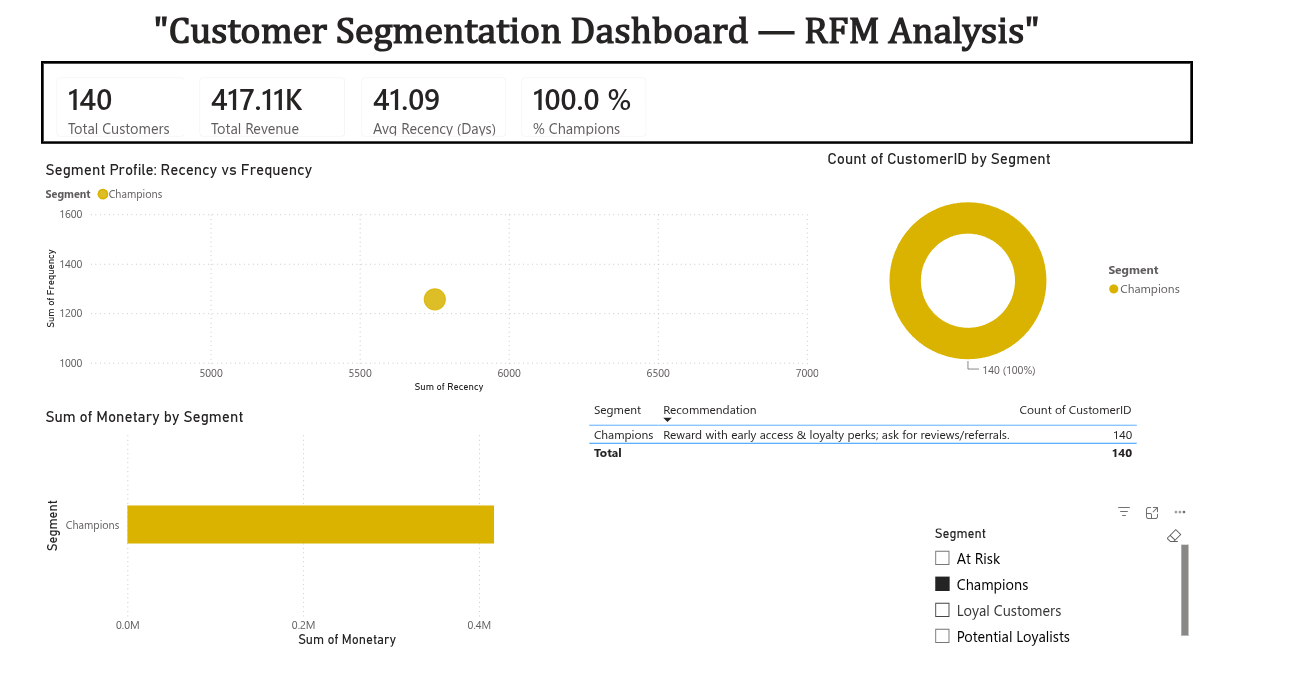

What the dashboard file says about the page in this screenshot:
{"tool":"powerbi","page":{"name":"Page 1","canvas":[1280,720],"ordinal":0},"visuals":[{"type":"cardVisual","fields":{"Data":["customer_segments_for_powerbi 1.Total Customers"]},"box":[0,65.6,177.8,100],"z":0},{"type":"cardVisual","fields":{"Data":["customer_segments_for_powerbi 1.Total Revenue"]},"box":[158.9,65.6,196.7,100],"z":1000},{"type":"cardVisual","fields":{"Data":["customer_segments_for_powerbi 1.Avg Recency (Days)"]},"box":[338.9,65.6,195.6,100],"z":2000},{"type":"cardVisual","fields":{"Data":["customer_segments_for_powerbi 1.% Champions"]},"box":[516.7,65.6,173.3,100],"z":3000},{"type":"donutChart","fields":{"Category":["customer_segments_for_powerbi 1.Segment"],"Y":["CountNonNull(customer_segments_for_powerbi 1.CustomerID)"]},"box":[868.9,165.6,411.1,271.1],"z":4000},{"type":"clusteredBarChart","fields":{"Category":["customer_segments_for_powerbi 1.Segment"],"Y":["Sum(customer_segments_for_powerbi 1.Monetary)"]},"box":[0,452.2,603.3,267.8],"z":5000},{"type":"scatterChart","title":"   Segment Profile: Recency vs Frequency","fields":{"Series":["customer_segments_for_powerbi 1.Segment"],"Size":["Sum(customer_segments_for_powerbi 1.Monetary)"],"X":["Sum(customer_segments_for_powerbi 1.Recency)"],"Y":["Sum(customer_segments_for_powerbi 1.Frequency)"]},"box":[0,177.8,868.9,258.9],"z":6000},{"type":"tableEx","fields":{"Values":["customer_segments_for_powerbi 1.Segment","customer_segments_for_powerbi 1.Recommendation","CountNonNull(customer_segments_for_powerbi 1.CustomerID)"]},"box":[603.3,436.7,668.9,142.2],"z":6001},{"type":"textbox","box":[120,3.3,1040,62.2],"z":6002},{"type":"shape","box":[0,27.8,1280,75.6],"z":6003},{"type":"shape","box":[0,64.4,1280,92.2],"z":6004},{"type":"slicer","fields":{"Values":["customer_segments_for_powerbi 1.Segment"]},"box":[980,578.9,300,141.1],"z":6005}]}

Visuals, with their boxes on the page's 1280x720 design canvas (x1, y1, x2, y2). These are canvas units, not pixel positions in the 1293x688 screenshot, which may show the page scaled, cropped or inside an application window:
cardVisual - customer_segments_for_powerbi 1.Total Customers: left=0, top=66, right=178, bottom=166
cardVisual - customer_segments_for_powerbi 1.Total Revenue: left=159, top=66, right=356, bottom=166
cardVisual - customer_segments_for_powerbi 1.Avg Recency (Days): left=339, top=66, right=534, bottom=166
cardVisual - customer_segments_for_powerbi 1.% Champions: left=517, top=66, right=690, bottom=166
donutChart - customer_segments_for_powerbi 1.Segment x CountNonNull(customer_segments_for_powerbi 1.CustomerID): left=869, top=166, right=1280, bottom=437
clusteredBarChart - customer_segments_for_powerbi 1.Segment x Sum(customer_segments_for_powerbi 1.Monetary): left=0, top=452, right=603, bottom=720
"   Segment Profile: Recency vs Frequency" scatterChart: left=0, top=178, right=869, bottom=437
tableEx - customer_segments_for_powerbi 1.Segment x customer_segments_for_powerbi 1.Recommendation: left=603, top=437, right=1272, bottom=579
textbox: left=120, top=3, right=1160, bottom=66
shape: left=0, top=28, right=1280, bottom=103
shape: left=0, top=64, right=1280, bottom=157
slicer - customer_segments_for_powerbi 1.Segment: left=980, top=579, right=1280, bottom=720
